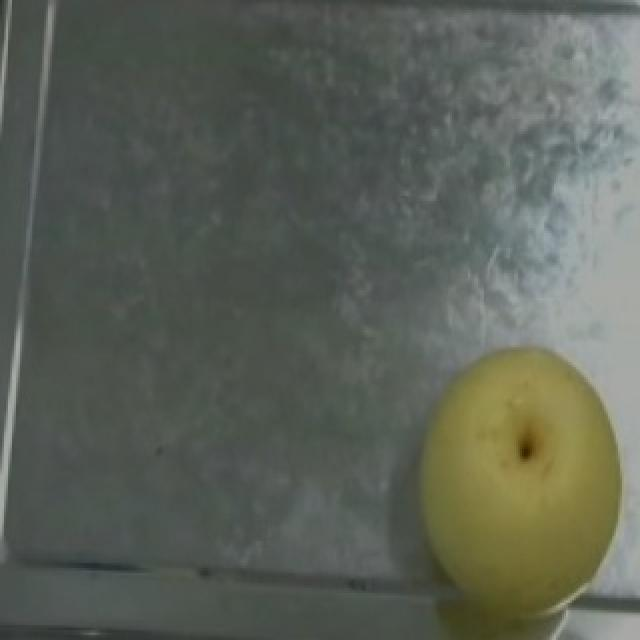Fruit: (384, 330, 640, 635)
